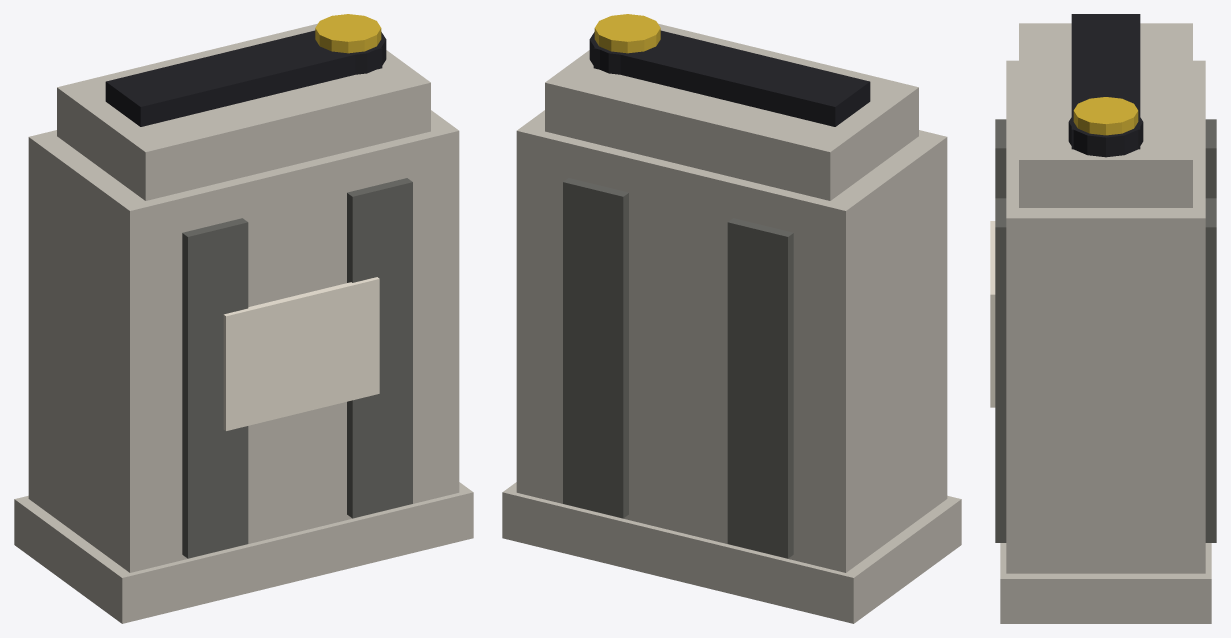
File: canister.glb
3 renders of one model, left to right at view 1: azimuth 30°, elevation 25°; view 2: azimuth 150°, elevation 25°; view 3: azimuth 270°, elevation 25°, orthographic.
Visible parts, largest first — view 1: canister; view 2: canister; view 3: canister.
Part boxes in pixels (x1,y1,x2,y2): canister: (14, 14, 473, 623); canister: (502, 14, 961, 623); canister: (990, 14, 1216, 623).
Size of the model in its own units: 0.32 by 0.425 by 0.182.
